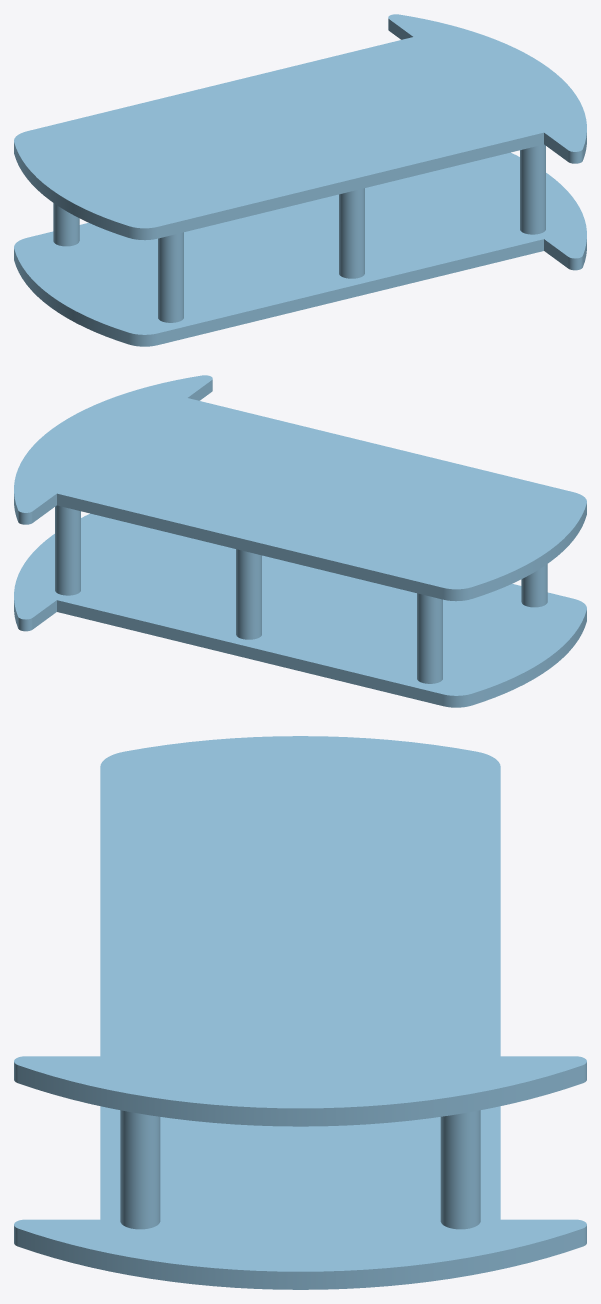
3 views of the same model, one above another, from view 1: azimuth 30°, elevation 25°; view 2: azimuth 150°, elevation 25°; view 3: azimuth 270°, elevation 25° (orthographic). The views are drawn at different scales.
Visible parts, largest first — view 1: ID2; view 2: ID2; view 3: ID2.
Boxes of the visible parts, x1,y1,x2,y2 form: ID2: (14, 14, 586, 346); ID2: (14, 375, 586, 707); ID2: (14, 736, 586, 1289).
Bounding box in the file's own units: 0.22 × 0.1431 × 0.05.
